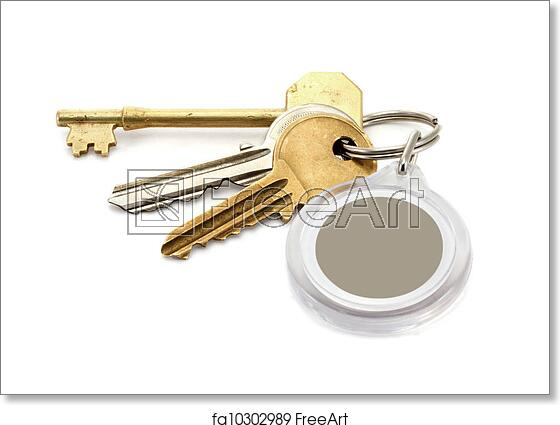key: (56, 69, 381, 263)
